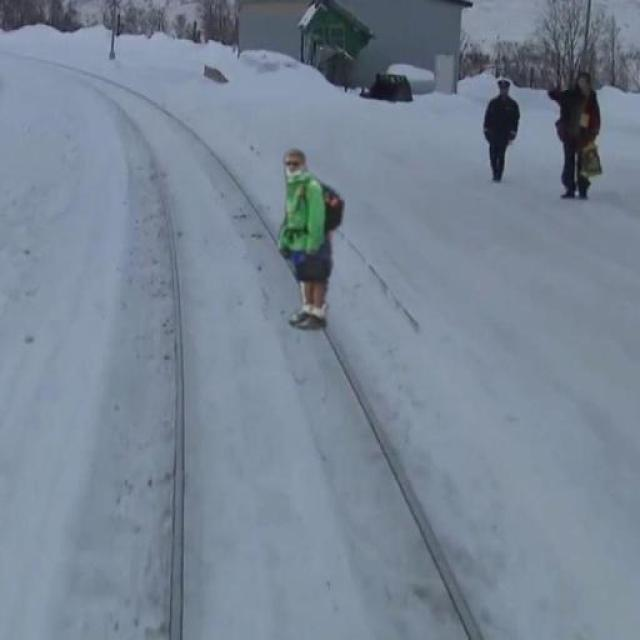people: (272, 145, 350, 332), (542, 64, 609, 205), (478, 76, 526, 190)
